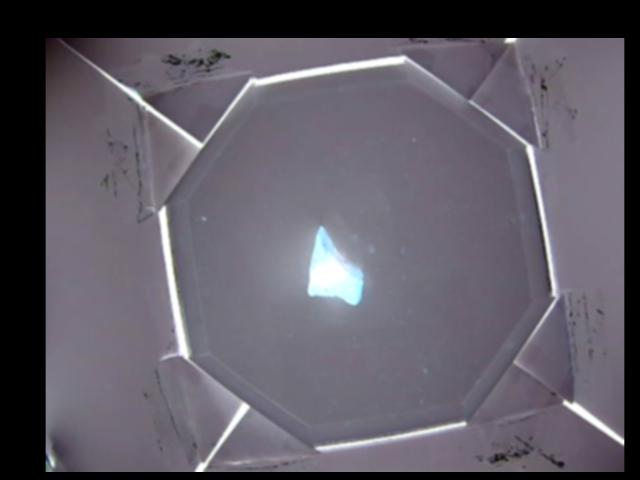Brisk: (306, 226, 363, 306)
